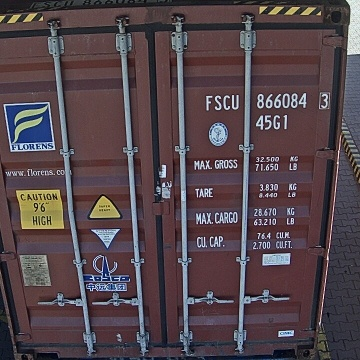serial_id: (206, 92, 330, 110)
